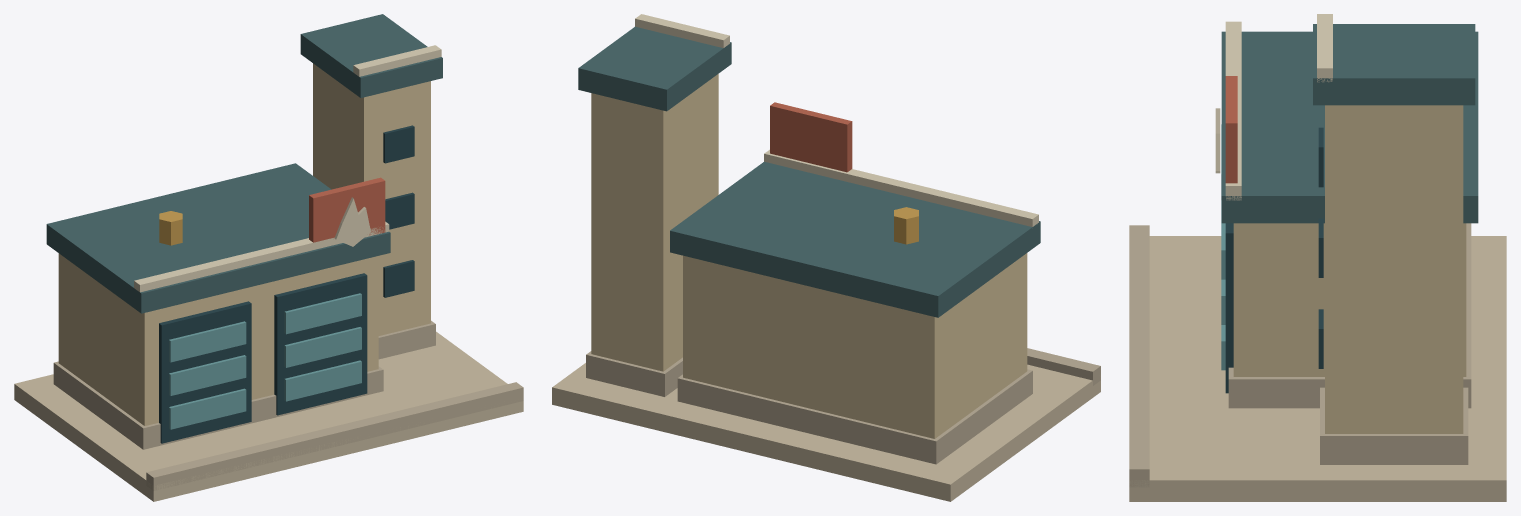
The model's file is fire-station-sunrise-complete.glb.
3 renders of one model, left to right at view 1: azimuth 30°, elevation 25°; view 2: azimuth 150°, elevation 25°; view 3: azimuth 270°, elevation 25°, orthographic. The views are drawn at different scales.
Parts seen in each view (by area): view 1: fire-station; view 2: fire-station; view 3: fire-station.
Boxes of the visible parts, x1,y1,x2,y2 form: fire-station: (14,14,523,501); fire-station: (552,14,1100,501); fire-station: (1129,14,1506,501).
Bounding box in the file's own units: 2.88 × 2.34 × 1.88.
